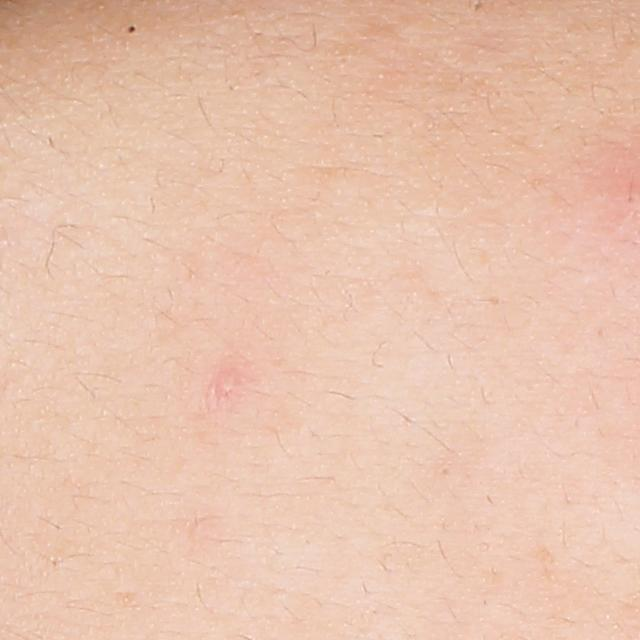papule: (204, 362, 244, 409)
